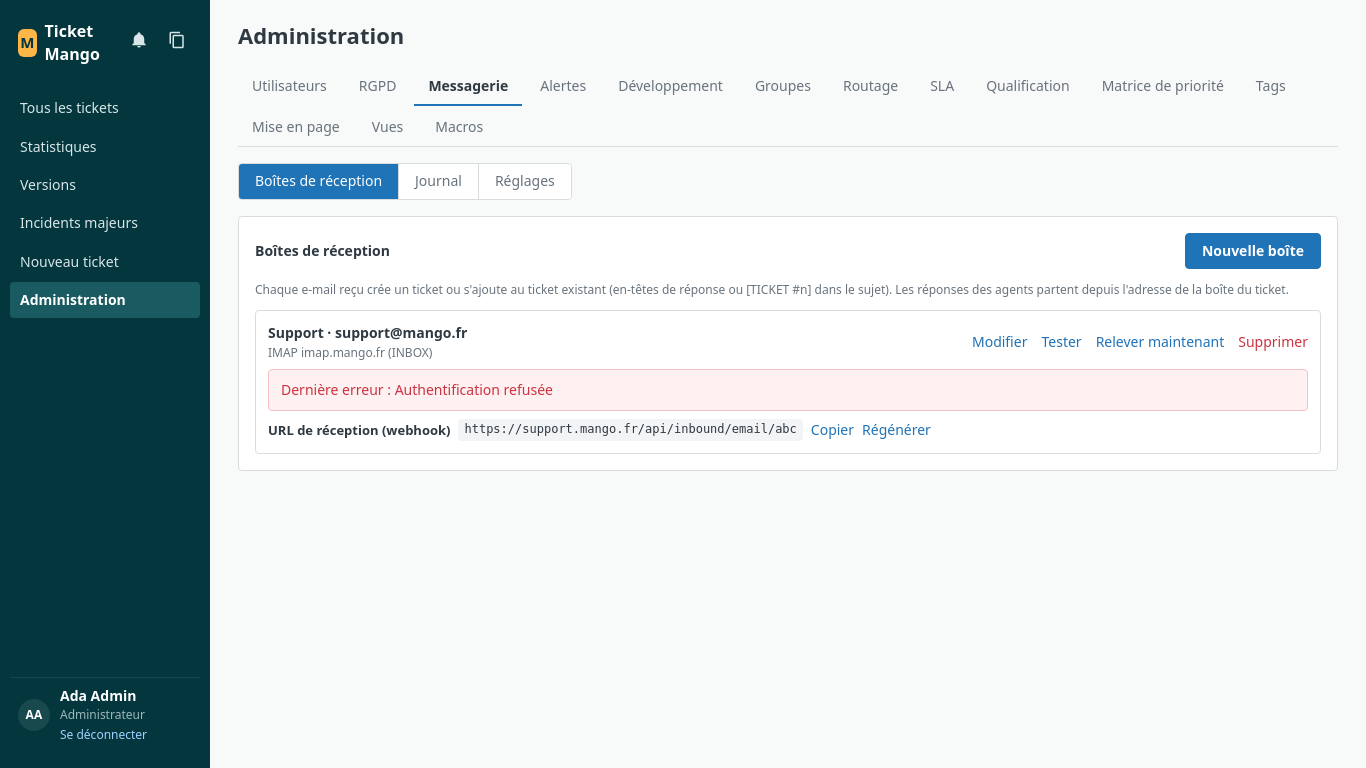
administration de la messagerie › affiche les boîtes, leur URL de webhook et teste la connexion
Check: the text "https://support.mango.fr/api/inbound/email/abc" is shown, box [458, 420, 803, 441]
Check: the text "Dernière erreur : Authentification refusée" is shown, box [268, 369, 1308, 412]
Click the button "Tester" at (1062, 342), box [1042, 324, 1082, 361]
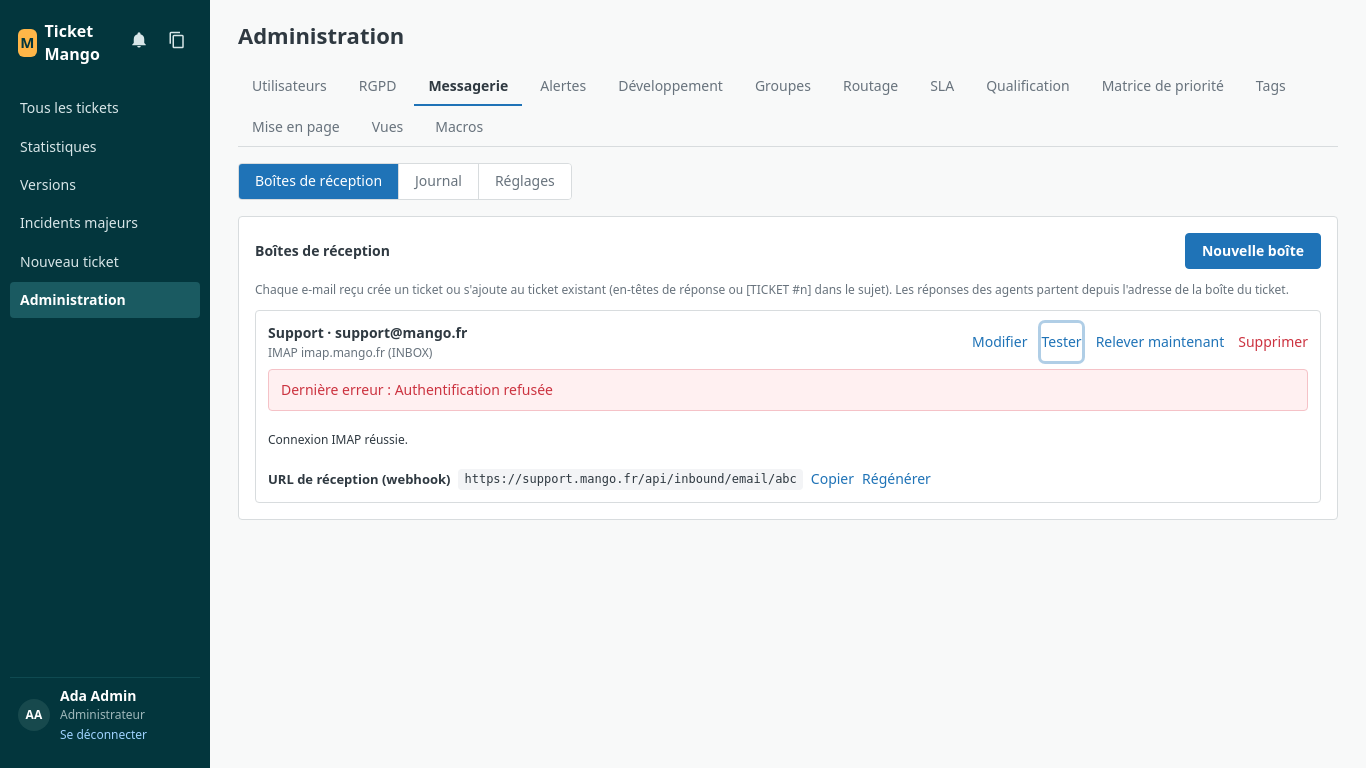
Check: the text "Connexion IMAP réussie." is shown, box [268, 432, 408, 448]
